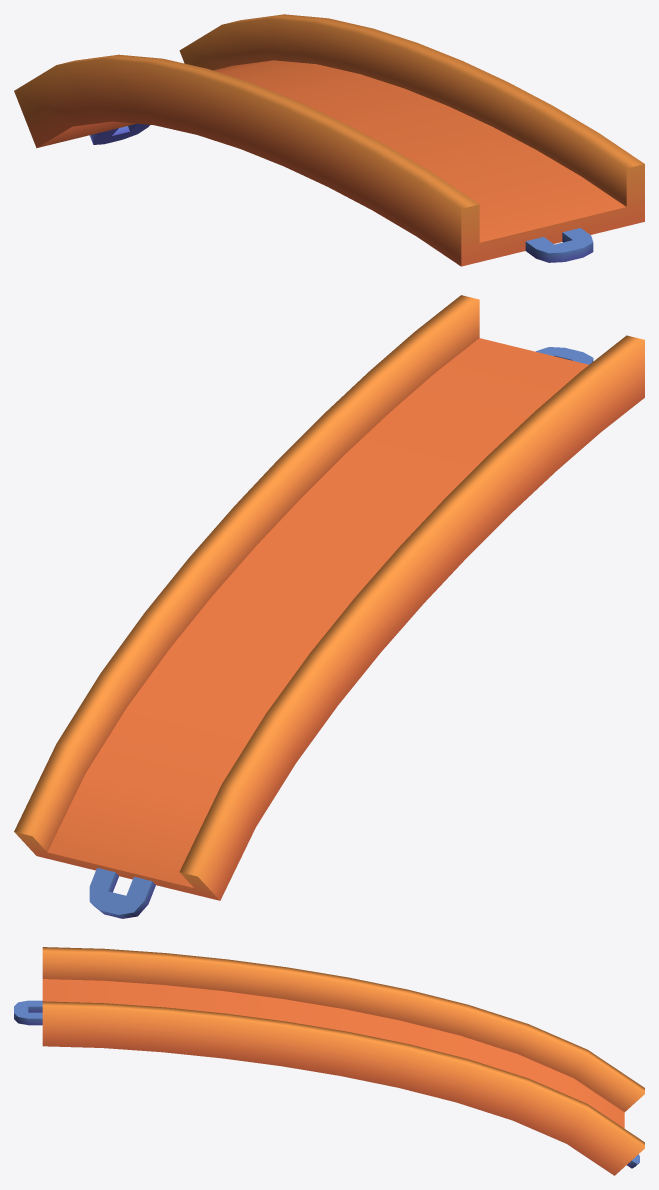
File: track-narrow-straight-hill-end.glb
3 renders of one model, top to bottom at view 1: azimuth 30°, elevation 25°; view 2: azimuth 150°, elevation 25°; view 3: azimuth 270°, elevation 25°, orthographic. The views are drawn at different scales.
Parts seen in each view (by area): view 1: track-narrow-straight-hill-end; view 2: track-narrow-straight-hill-end; view 3: track-narrow-straight-hill-end.
Part boxes in pixels (left/top/right/bottom): track-narrow-straight-hill-end: left=14, top=14, right=644, bottom=266; track-narrow-straight-hill-end: left=14, top=295, right=644, bottom=918; track-narrow-straight-hill-end: left=14, top=947, right=644, bottom=1175.
Bounding box in the file's own units: 0.9997 × 1.44 × 4.41.
Materials: 1 (1 with a texture image).
